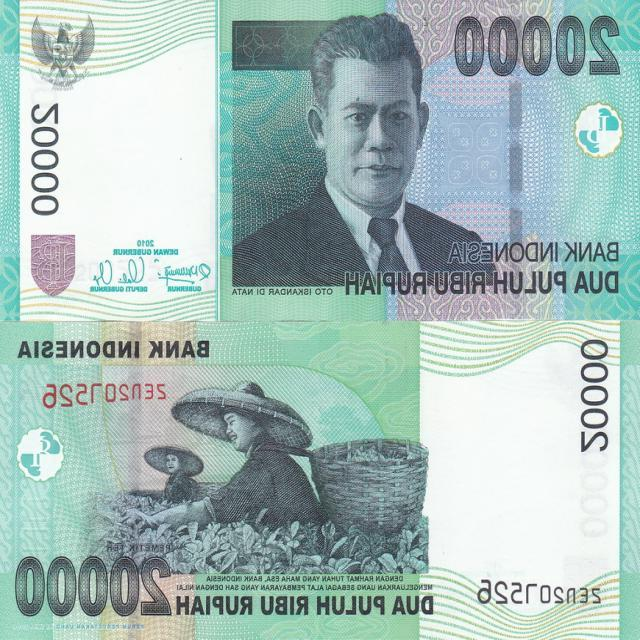dua puluh ribu rupiah: (0, 0, 640, 321), (0, 322, 640, 640)
